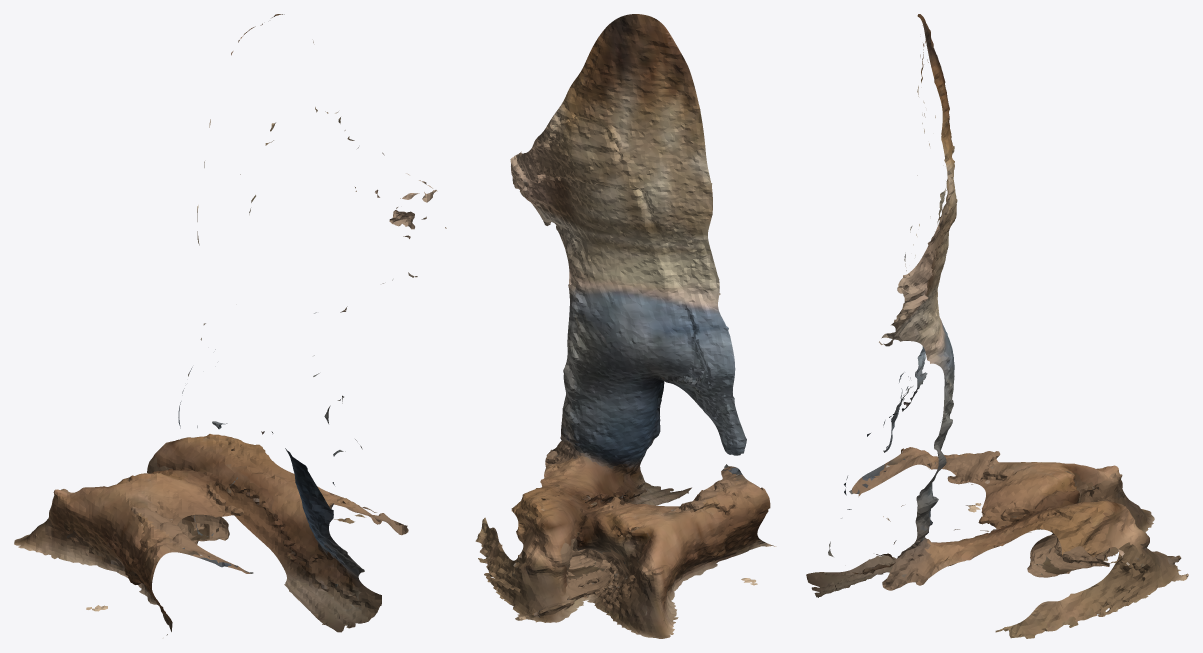
The picture shows the model from 3 angles, left to right: view 1: azimuth 30°, elevation 25°; view 2: azimuth 150°, elevation 25°; view 3: azimuth 270°, elevation 25°; orthographic projection. The views are drawn at different scales.
Bounding box in the file's own units: 0.5786 × 1.01 × 0.6245.
Materials: 1 (1 with a texture image).
